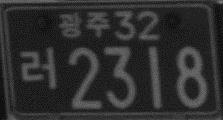1: (145, 44, 165, 112)
2: (67, 44, 102, 110), (137, 9, 161, 42)
3: (104, 45, 136, 110), (112, 9, 136, 42)
8: (173, 45, 208, 110)
광주_O: (57, 9, 111, 38)
러: (19, 44, 58, 91)
